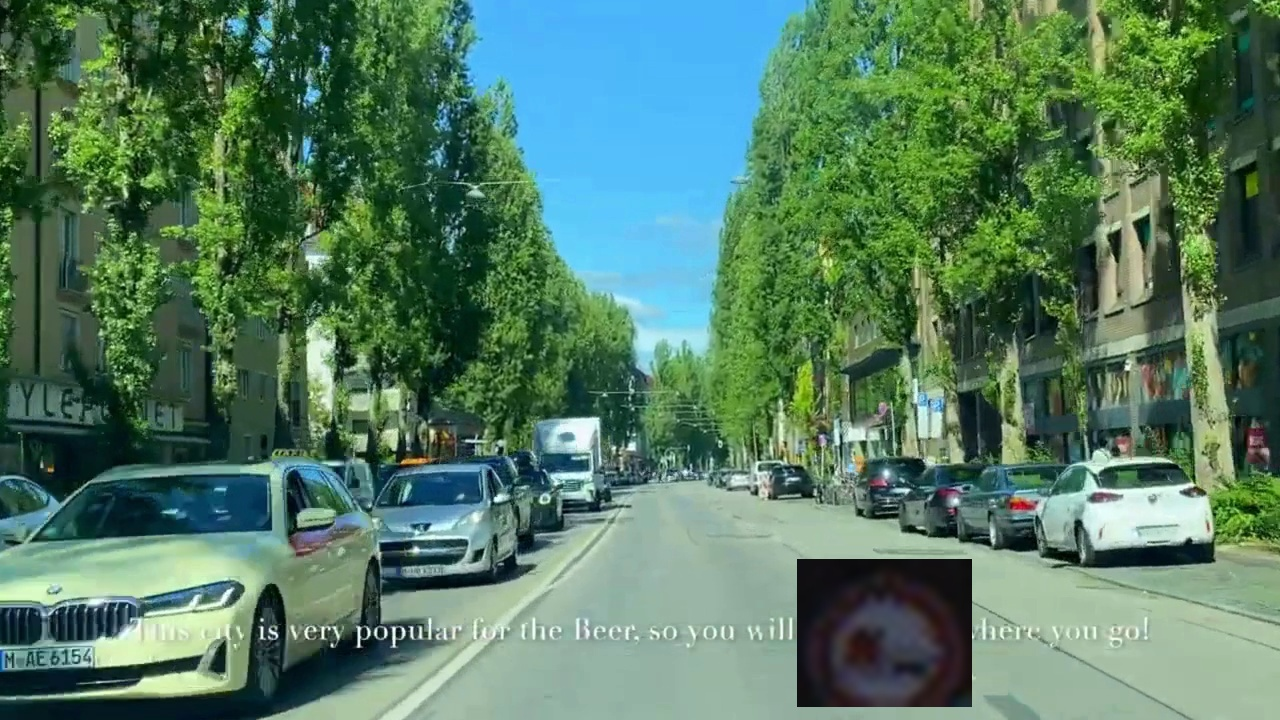No pass >3.5t: (797, 559, 972, 707)
